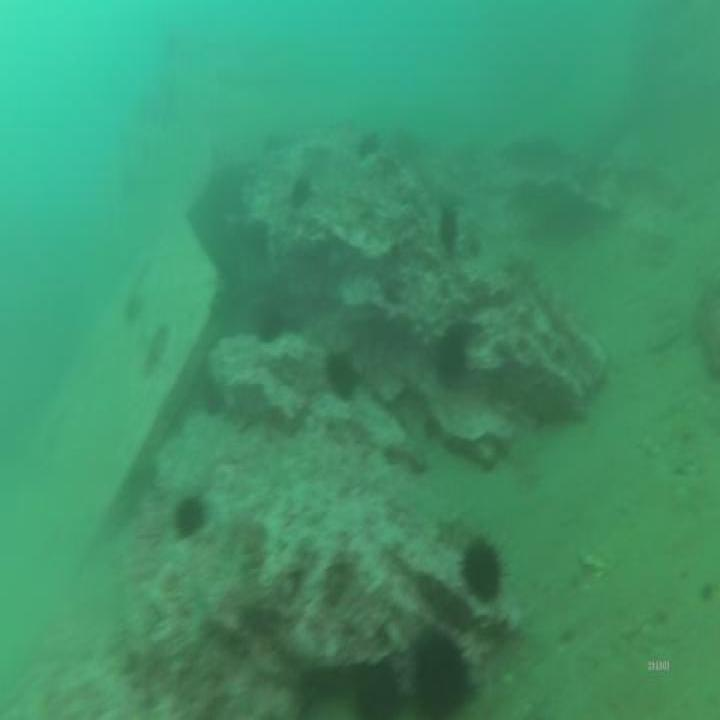echinus: (409, 617, 483, 720), (456, 523, 514, 613), (320, 340, 365, 411), (431, 320, 472, 393), (174, 487, 211, 544), (253, 295, 287, 350), (435, 195, 462, 262)
